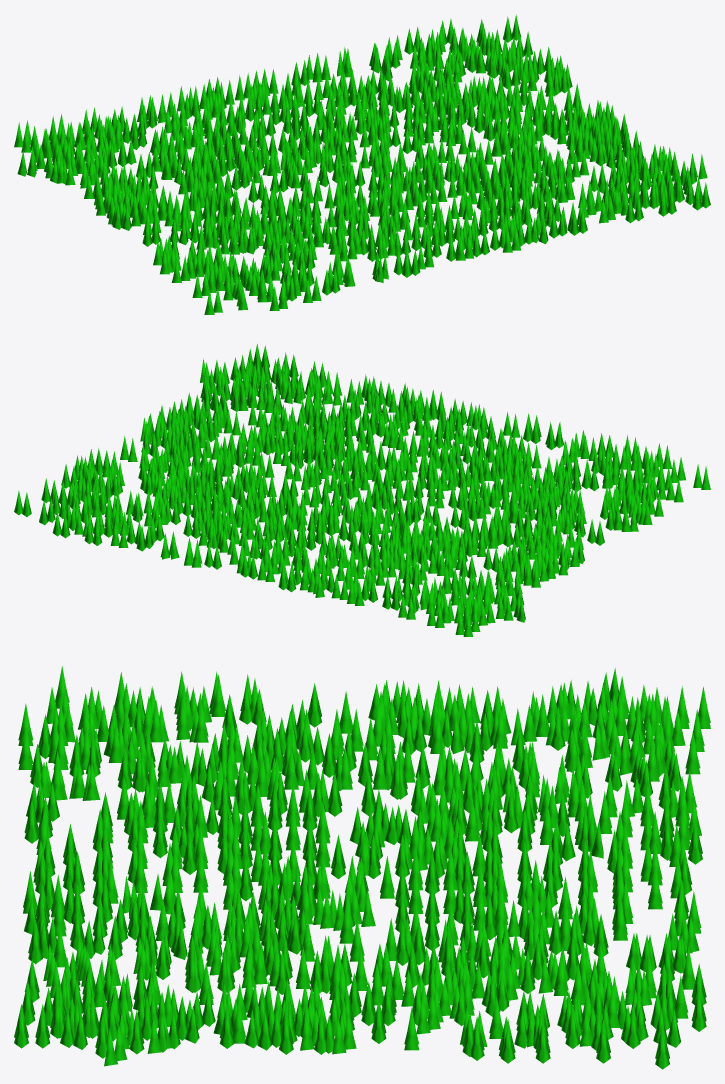
Rendered from Paint1_Pressed.fbx.
3 views of the same model, one above another, from view 1: azimuth 30°, elevation 25°; view 2: azimuth 150°, elevation 25°; view 3: azimuth 270°, elevation 25° (orthographic). The views are drawn at different scales.
Bounding box in the file's own units: 1555 × 68.97 × 1229.
